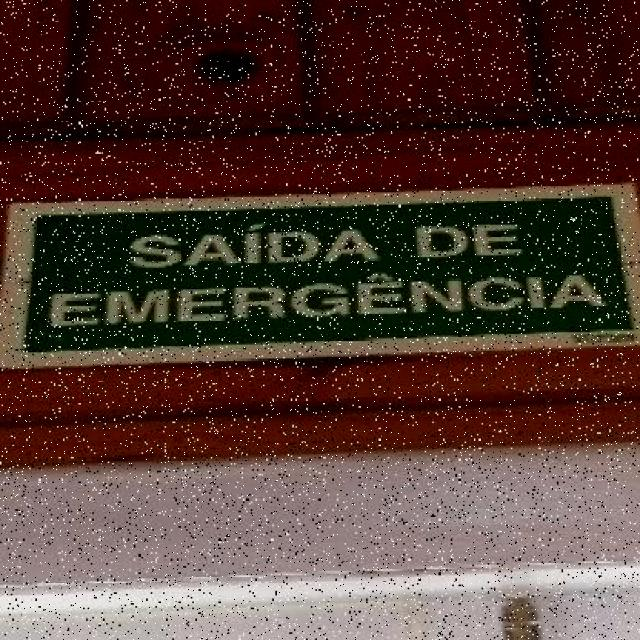emergency_exit: (1, 180, 638, 465), (2, 181, 638, 369)
